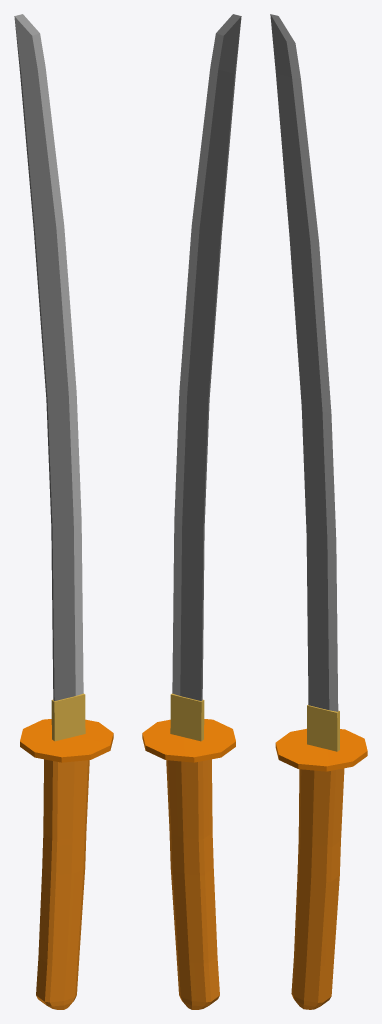
The model's file is Katana.fbx.
3 views of the same model, side by side, from view 1: azimuth 30°, elevation 25°; view 2: azimuth 150°, elevation 25°; view 3: azimuth 330°, elevation 25° (orthographic).
Visible parts, largest first — view 1: Circle.001, Cube; view 2: Circle.001, Cube; view 3: Circle.001, Cube.
Boxes of the visible parts, x1,y1,x2,y2 form: Circle.001: (14,14,85,741); Cube: (20,719,113,1009); Circle.001: (170,14,241,741); Cube: (142,719,235,1009); Circle.001: (270,14,339,751); Cube: (275,728,367,1009).
Size of the model in its own units: 95.62 by 995 by 86.43.
